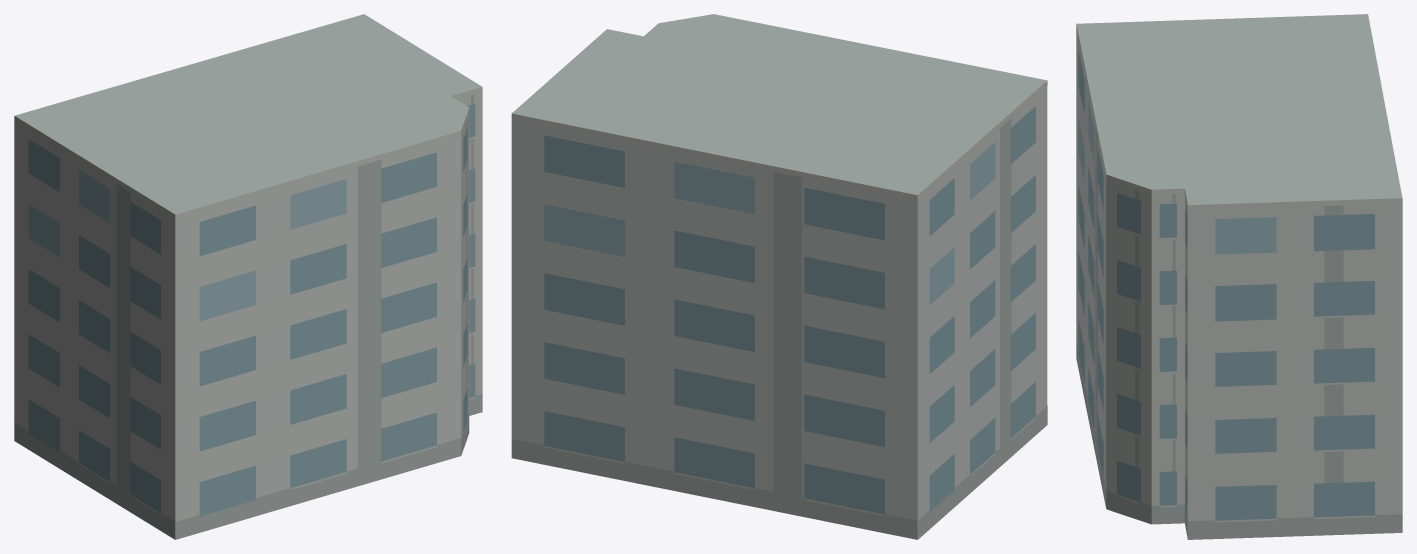
File: survey-upis-32735361.glb
The picture shows the model from 3 angles, left to right: view 1: azimuth 30°, elevation 25°; view 2: azimuth 150°, elevation 25°; view 3: azimuth 270°, elevation 25°; orthographic projection. The views are drawn at different scales.
Parts seen in each view (by area): view 1: survey-upis-32735361.tmp; view 2: survey-upis-32735361.tmp; view 3: survey-upis-32735361.tmp.
Boxes of the visible parts, box(x1,y1,x2,y2) form: survey-upis-32735361.tmp: box(14, 14, 482, 539); survey-upis-32735361.tmp: box(511, 14, 1047, 539); survey-upis-32735361.tmp: box(1076, 14, 1402, 539).
Size of the model in its own units: 18.14 by 14.8 by 13.08.
